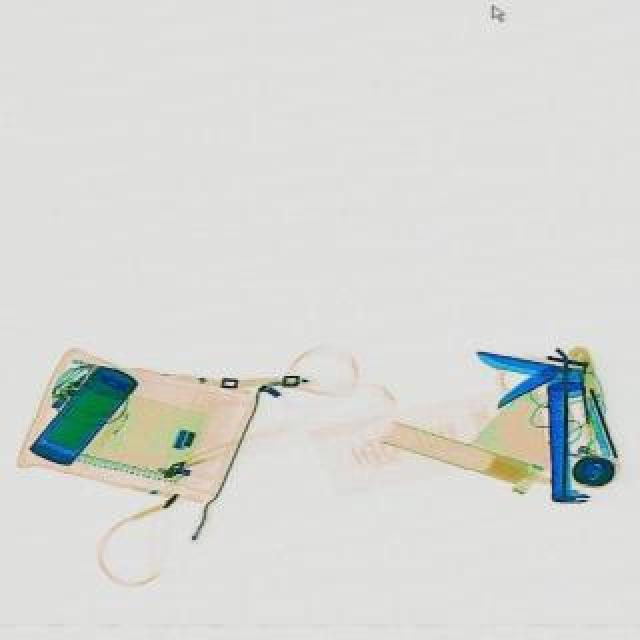knife: (474, 348, 588, 504)
